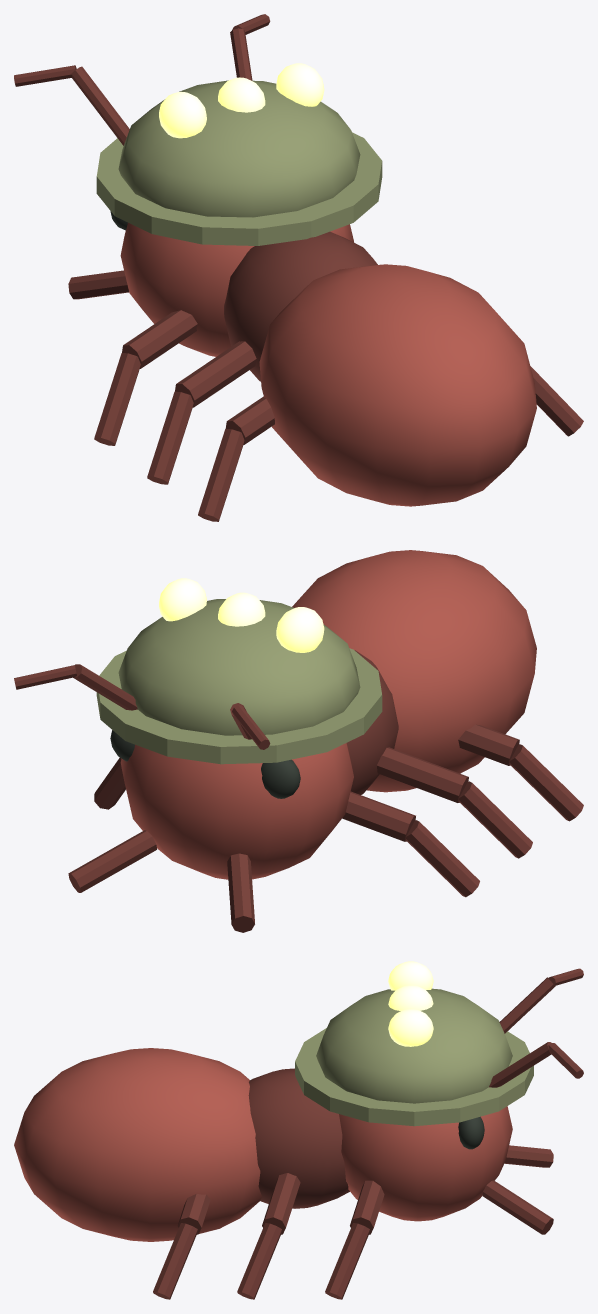
The model's file is soldier-ant.glb.
The picture shows the model from 3 angles, top to bottom: view 1: azimuth 30°, elevation 25°; view 2: azimuth 150°, elevation 25°; view 3: azimuth 270°, elevation 25°; orthographic projection. The views are drawn at different scales.
Visible parts, largest first — view 1: ant abdomen, helmet dome, helmet brim, ant head, ant thorax, upper leg.001, lower leg.001, lower leg.002, lower leg, upper leg.002, brain pip, brain pip.002 (+7 smaller); view 2: ant abdomen, helmet dome, ant head, helmet brim, ant thorax, upper leg.001, mandible.001, lower leg.001, lower leg, lower leg.002, upper leg.002, mandible (+9 smaller); view 3: ant abdomen, helmet dome, ant head, ant thorax, helmet brim, lower leg.004, lower leg.005, lower leg.003, mandible.001, brain pip.002, upper leg.004, upper leg.005 (+8 smaller).
Boxes of the visible parts, left/top/right/bottom form: ant abdomen: left=259, top=264, right=536, bottom=506; helmet dome: left=118, top=80, right=360, bottom=217; helmet brim: left=96, top=132, right=382, bottom=245; ant head: left=120, top=222, right=353, bottom=356; ant thorax: left=224, top=231, right=377, bottom=381; upper leg.001: left=175, top=341, right=256, bottom=407; lower leg.001: left=147, top=391, right=193, bottom=484; lower leg.002: left=94, top=353, right=140, bottom=445; lower leg: left=198, top=429, right=244, bottom=521; upper leg.002: left=122, top=310, right=197, bottom=368; brain pip: left=159, top=91, right=206, bottom=138; brain pip.002: left=276, top=63, right=324, bottom=106; ant abdomen: left=292, top=550, right=536, bottom=792; helmet dome: left=118, top=599, right=360, bottom=735; ant head: left=120, top=743, right=353, bottom=879; helmet brim: left=96, top=648, right=382, bottom=764; ant thorax: left=347, top=650, right=398, bottom=794; upper leg.001: left=376, top=747, right=468, bottom=802; mandible.001: left=68, top=830, right=156, bottom=892; lower leg.001: left=459, top=781, right=532, bottom=858; lower leg: left=509, top=744, right=583, bottom=821; lower leg.002: left=406, top=820, right=479, bottom=897; upper leg.002: left=342, top=791, right=415, bottom=841; mandible: left=227, top=853, right=254, bottom=932; ant abdomen: left=14, top=1048, right=261, bottom=1241; helmet dome: left=316, top=988, right=512, bottom=1103; ant head: left=339, top=1106, right=512, bottom=1221; ant thorax: left=248, top=1068, right=349, bottom=1208; helmet brim: left=295, top=1028, right=533, bottom=1126; lower leg.004: left=237, top=1223, right=282, bottom=1299; lower leg.005: left=325, top=1223, right=370, bottom=1299; lower leg.003: left=153, top=1223, right=197, bottom=1299; mandible.001: left=482, top=1180, right=553, bottom=1234; brain pip.002: left=388, top=1008, right=433, bottom=1046; upper leg.004: left=262, top=1173, right=300, bottom=1234; upper leg.005: left=350, top=1180, right=384, bottom=1234.
Size of the model in its own units: 1.05 by 0.767 by 1.62.
